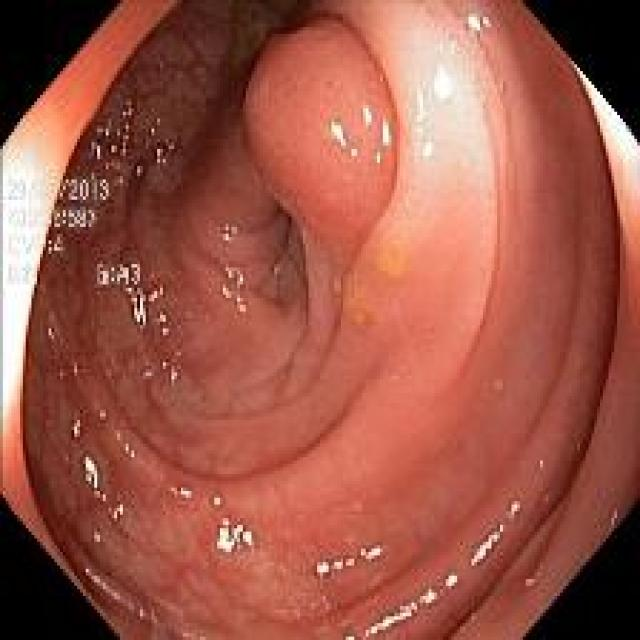Polyps: (246, 19, 398, 264)
